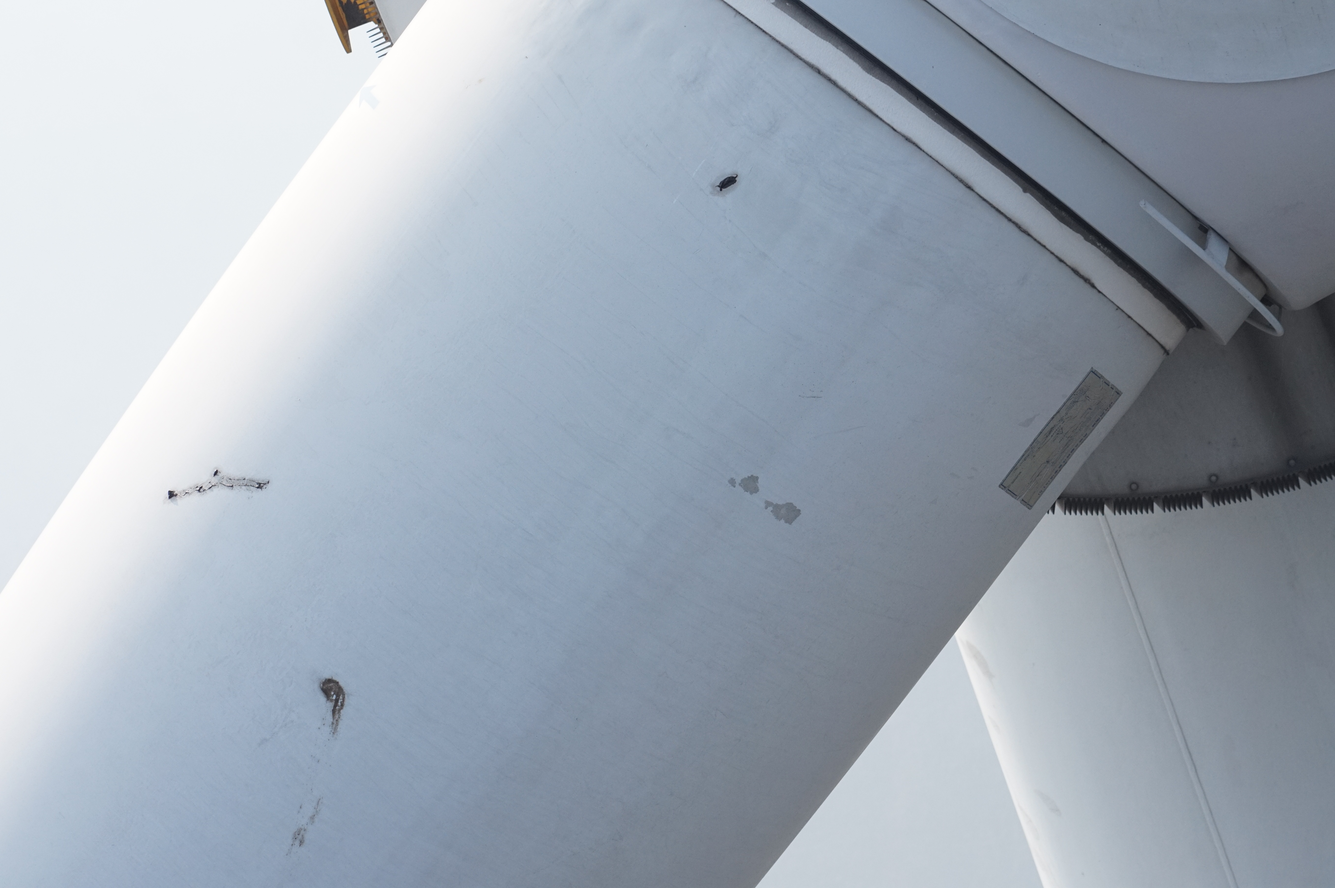Dirt: (168, 465, 273, 500), (320, 677, 347, 728), (716, 176, 739, 191)
